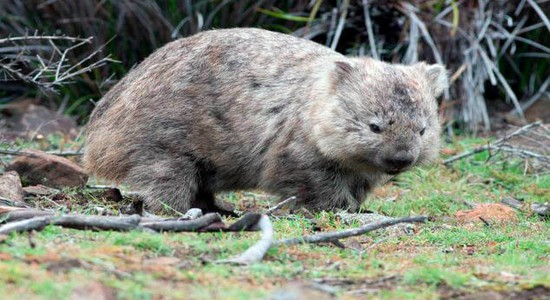Wombat: (83, 23, 448, 237)
